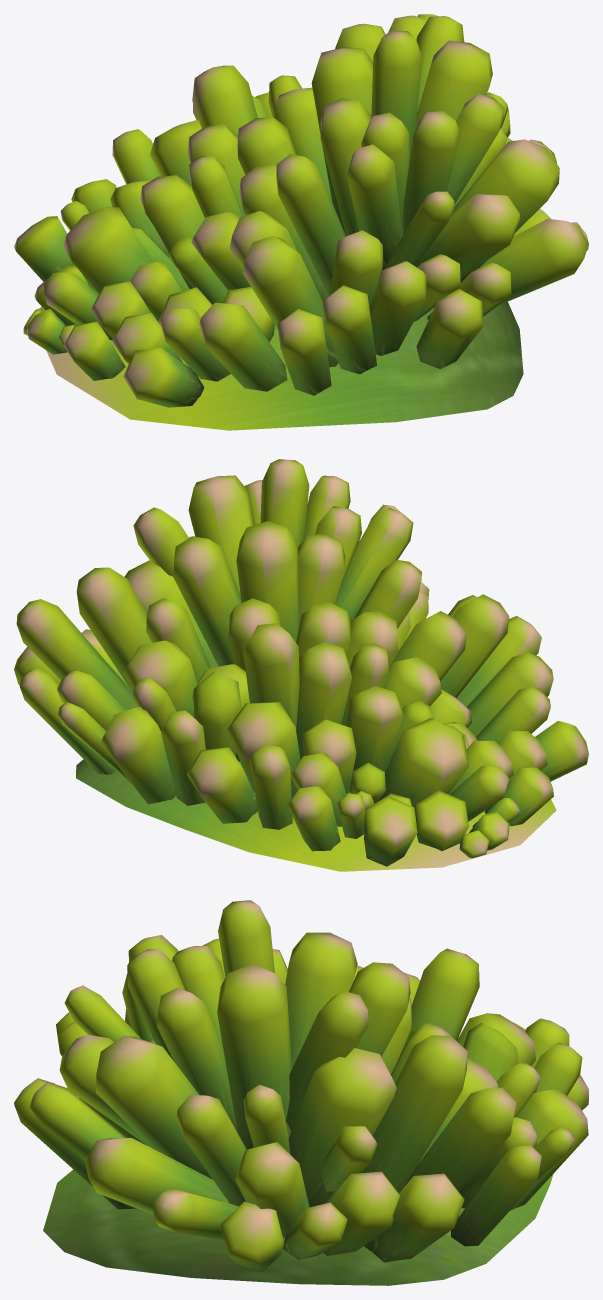
Rendered from plant_63.fbx.
3 views of the same model, one above another, from view 1: azimuth 30°, elevation 25°; view 2: azimuth 150°, elevation 25°; view 3: azimuth 270°, elevation 25° (orthographic). The views are drawn at different scales.
Visible parts, largest first — view 1: shanhu_04_coral_p0039_coral_p0040_coral_p0043_coral_p0044; view 2: shanhu_04_coral_p0039_coral_p0040_coral_p0043_coral_p0044; view 3: shanhu_04_coral_p0039_coral_p0040_coral_p0043_coral_p0044.
Boxes of the visible parts, x1,y1,x2,y2 form: shanhu_04_coral_p0039_coral_p0040_coral_p0043_coral_p0044: (14,14,588,430); shanhu_04_coral_p0039_coral_p0040_coral_p0043_coral_p0044: (14,459,588,871); shanhu_04_coral_p0039_coral_p0040_coral_p0043_coral_p0044: (14,900,588,1285).
Size of the model in its own units: 3.42 by 2.14 by 3.15.
